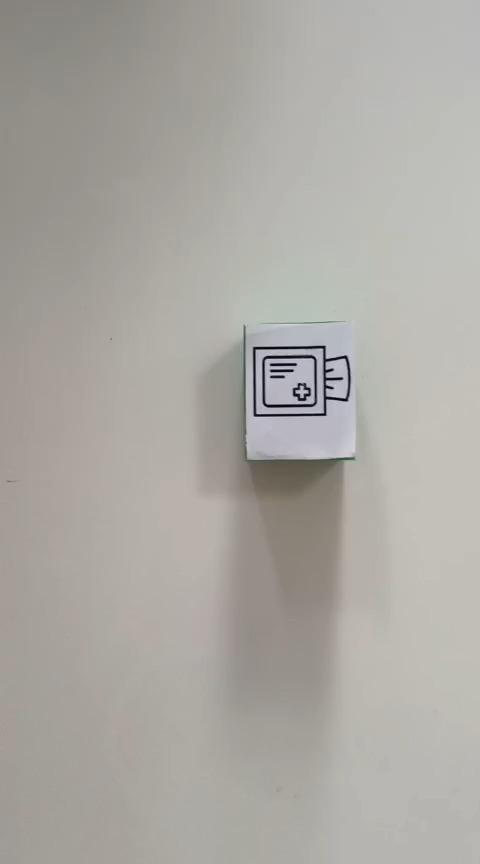Gauze: (242, 319, 357, 461)
